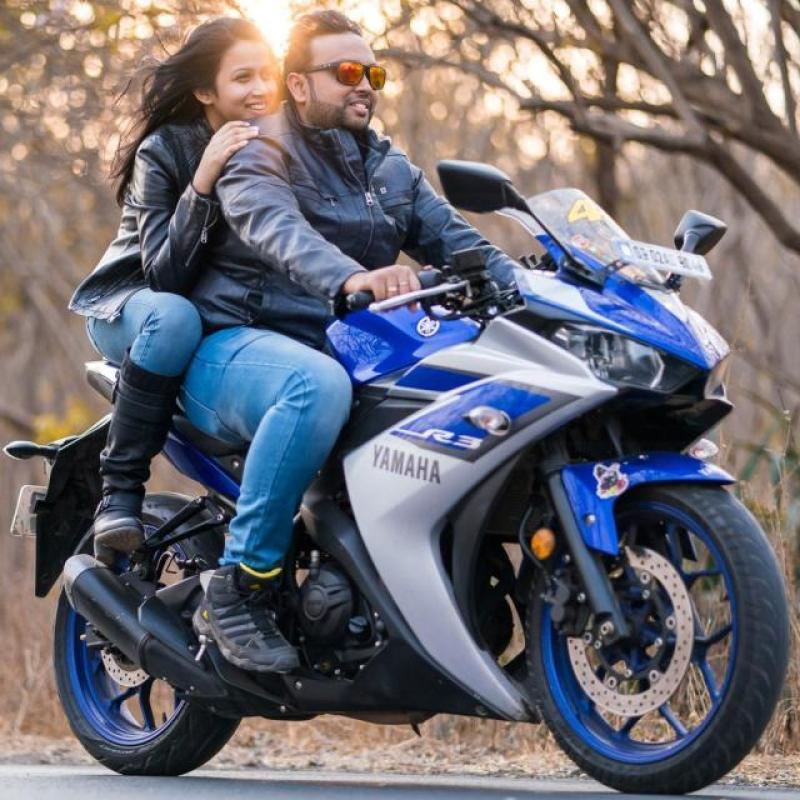nohelmet: (306, 3, 426, 162), (160, 4, 274, 127)
